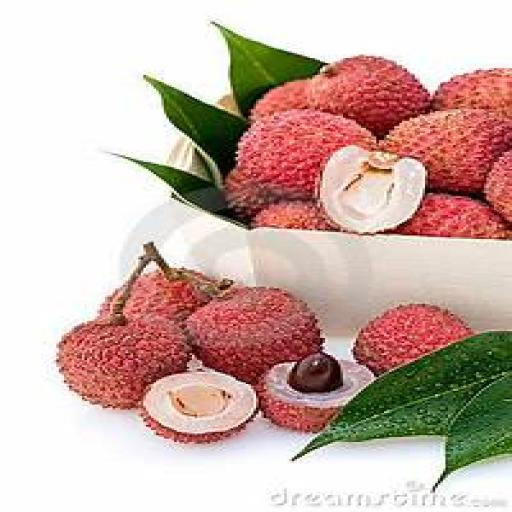lychee: (57, 253, 191, 407), (226, 110, 376, 218), (187, 287, 322, 383), (57, 318, 191, 409), (382, 110, 511, 192), (308, 57, 430, 136), (320, 147, 427, 233), (259, 354, 373, 431), (354, 304, 473, 375), (141, 371, 258, 443), (123, 245, 230, 322), (395, 193, 509, 238), (126, 270, 212, 322), (433, 69, 511, 117), (251, 79, 309, 121), (251, 202, 337, 230), (484, 152, 511, 221)
